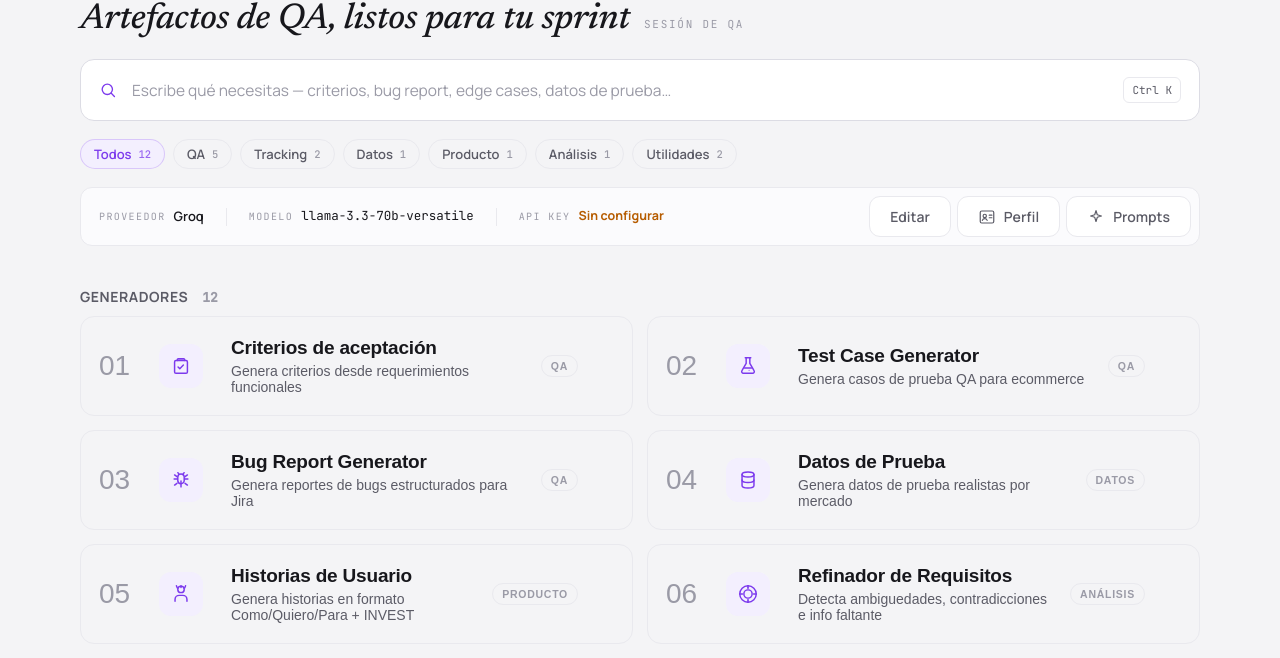
Test case: LandingScreen — Perfil y Prompts › abre el editor de prompts
Check: the text "Editor de Prompts" is not shown
Click the button "Prompts" at (1129, 216), box [1066,196,1191,237]
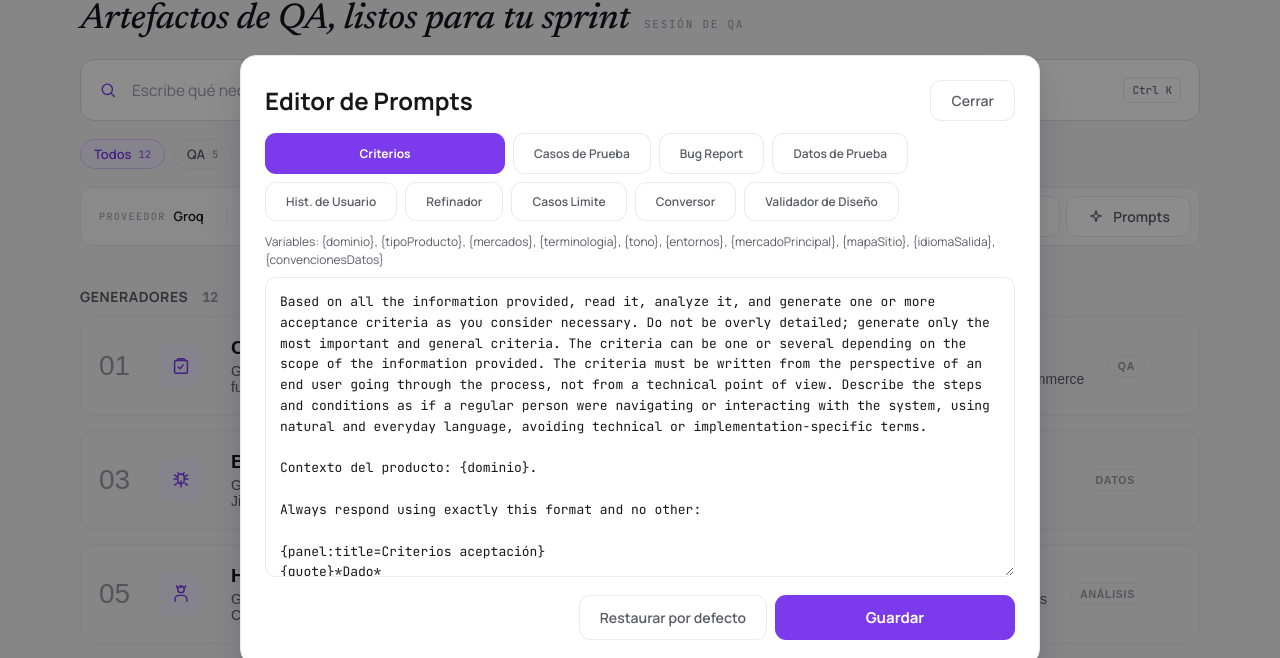
Check: the heading "Editor de Prompts" is shown, box [265,82,473,118]
